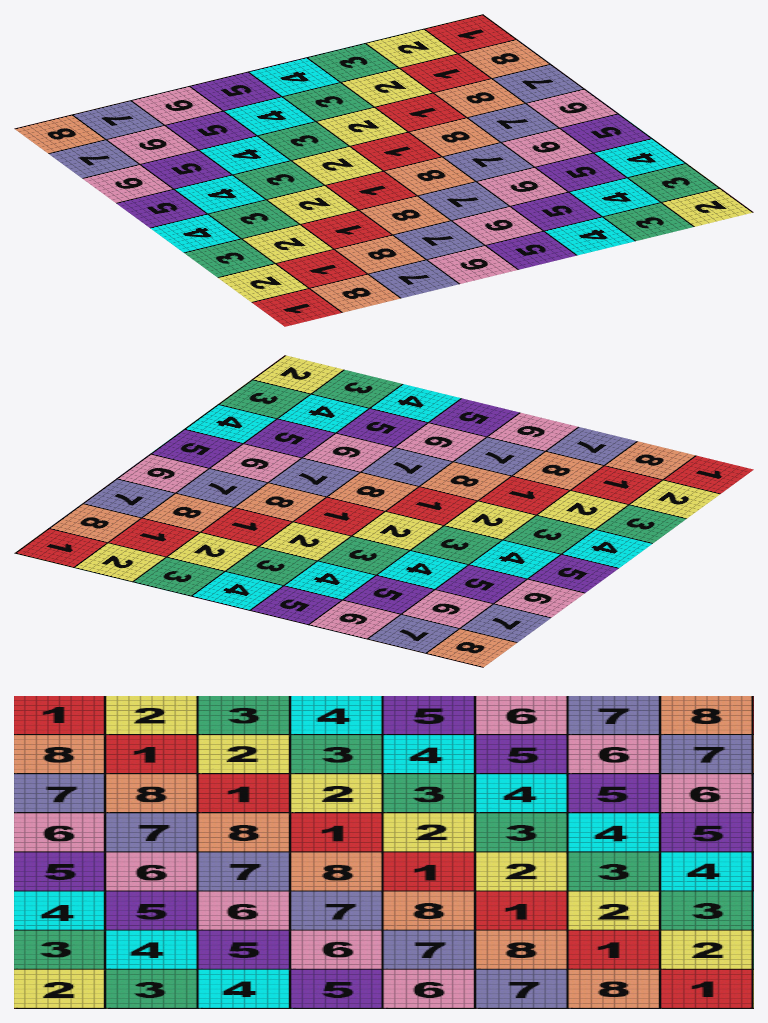
The model's file is watertess_ring4_edge.fbx.
3 views of the same model, one above another, from view 1: azimuth 30°, elevation 25°; view 2: azimuth 150°, elevation 25°; view 3: azimuth 270°, elevation 25° (orthographic). The views are drawn at different scales.
Visible parts, largest first — view 1: watertess_ring4_edge; view 2: watertess_ring4_edge; view 3: watertess_ring4_edge.
Part boxes in pixels (x1=…): watertess_ring4_edge: x1=14, y1=14, x2=753, y2=326; watertess_ring4_edge: x1=14, y1=355, x2=753, y2=667; watertess_ring4_edge: x1=14, y1=696, x2=753, y2=1008.
Size of the model in its own units: 128 by 2.09e-05 by 128.
